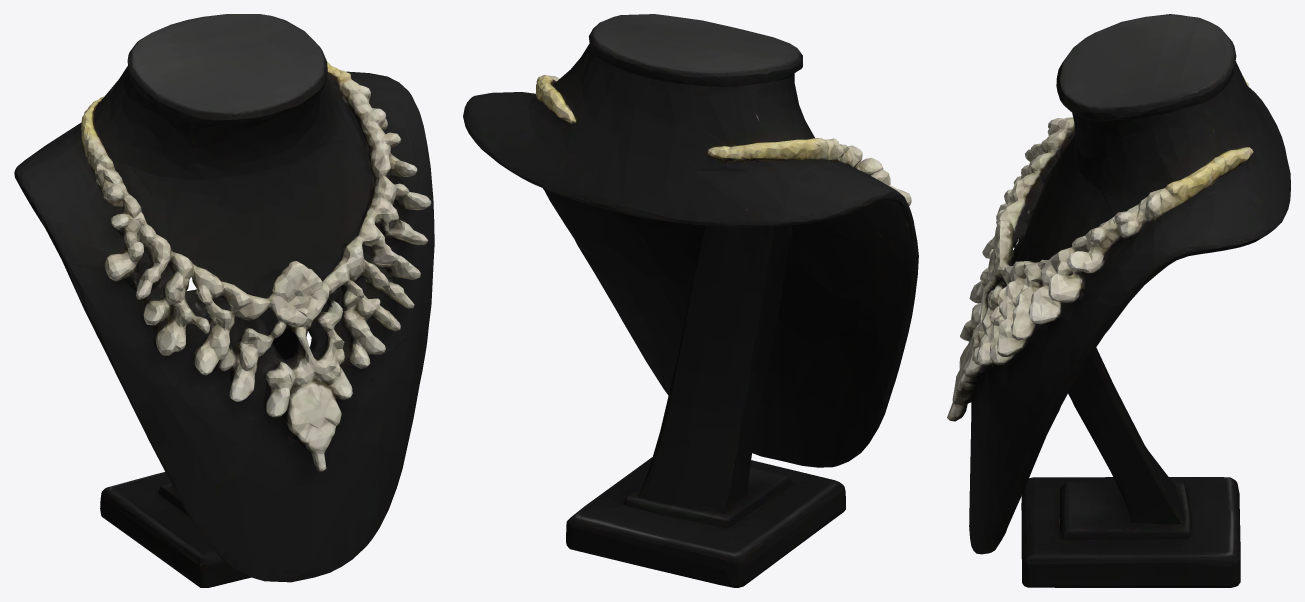
The model's file is bust_necklace_black_white.glb.
3 renders of one model, left to right at view 1: azimuth 30°, elevation 25°; view 2: azimuth 150°, elevation 25°; view 3: azimuth 270°, elevation 25°, orthographic. The views are drawn at different scales.
Visible parts, largest first — view 1: geometry_0; view 2: geometry_0; view 3: geometry_0.
Boxes of the visible parts, bbox=[...] form: geometry_0: bbox=[14, 14, 434, 587]; geometry_0: bbox=[463, 14, 918, 587]; geometry_0: bbox=[947, 14, 1290, 587].
Size of the model in its own units: 0.8602 by 0.9995 by 0.6285.
Materials: 1 (1 with a texture image).
